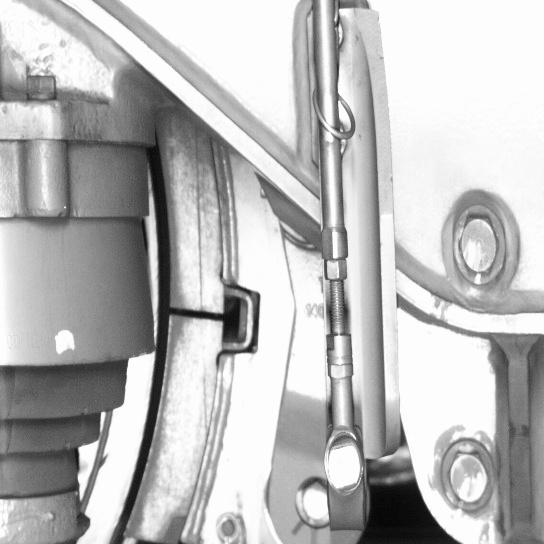KnifeSwitch: (107, 141, 237, 542)
